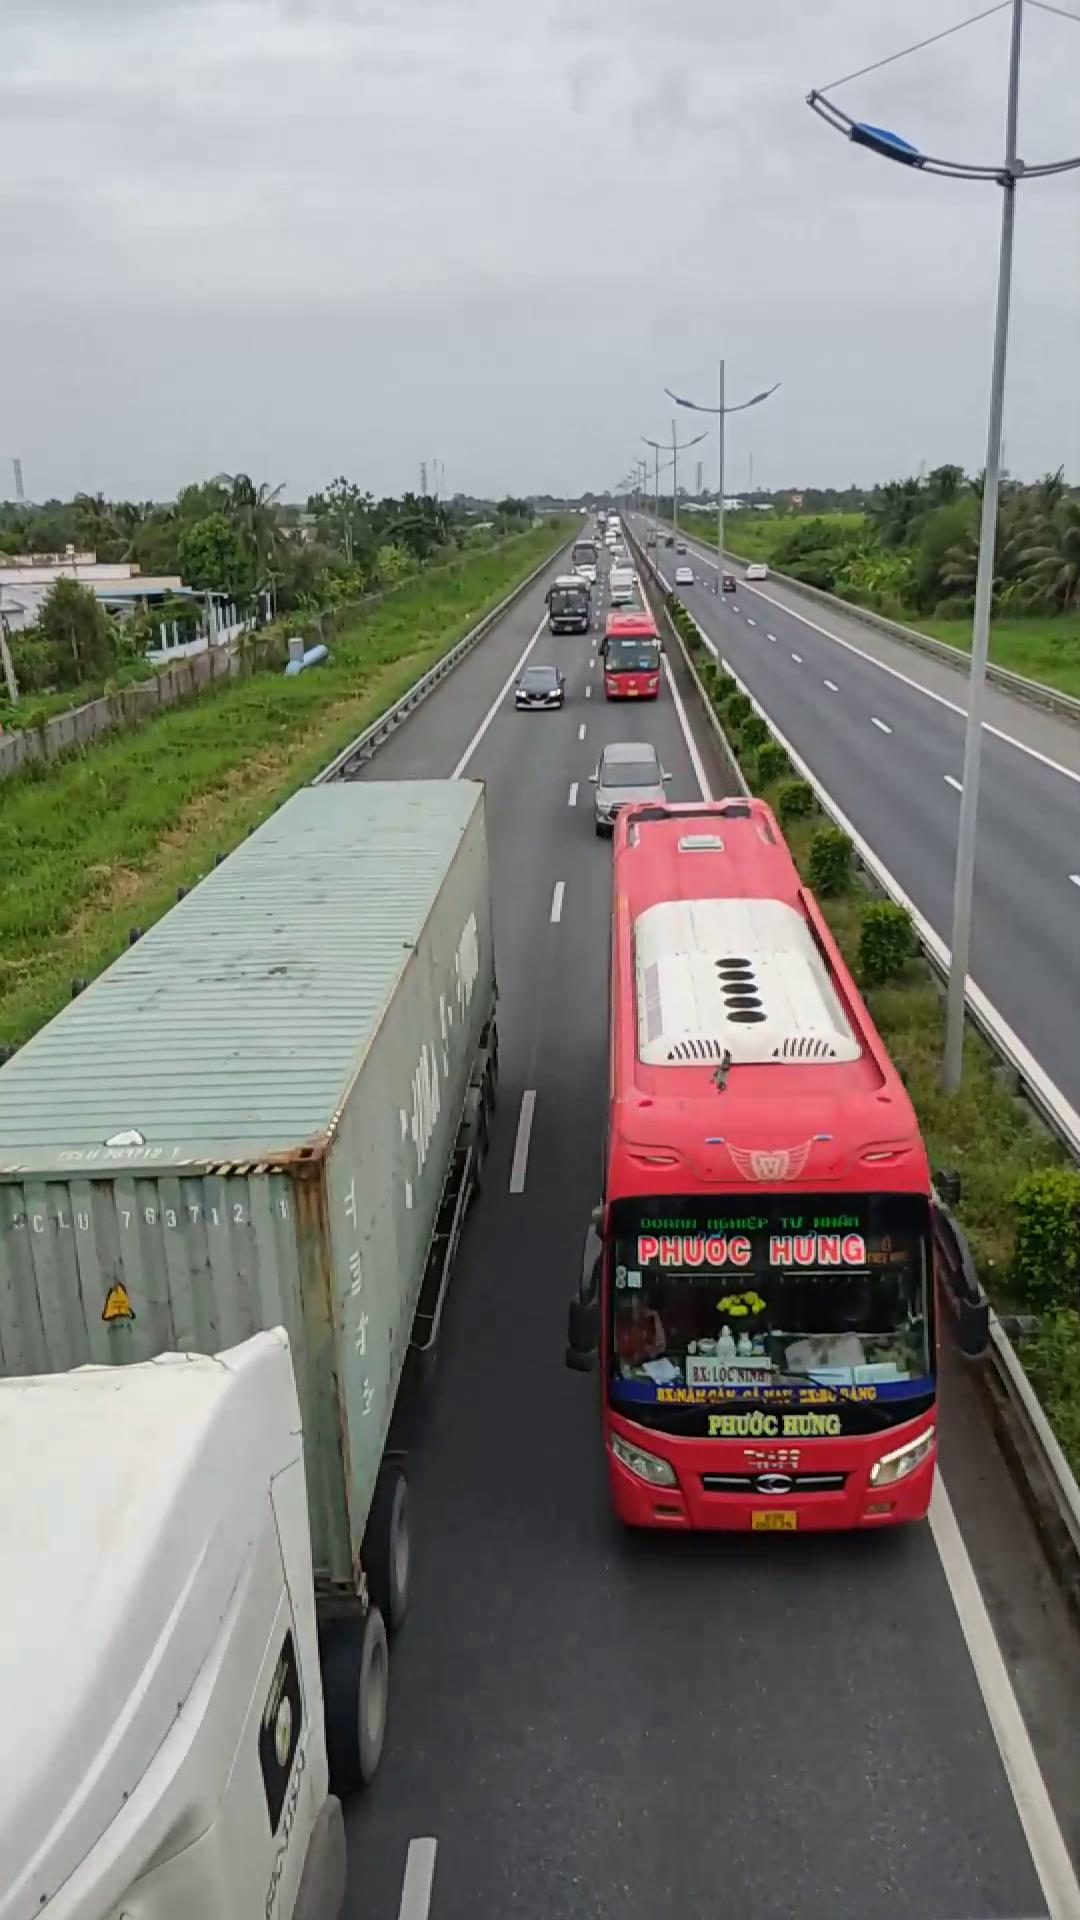bus: (584, 789, 944, 1535)
container: (0, 769, 500, 1920)
